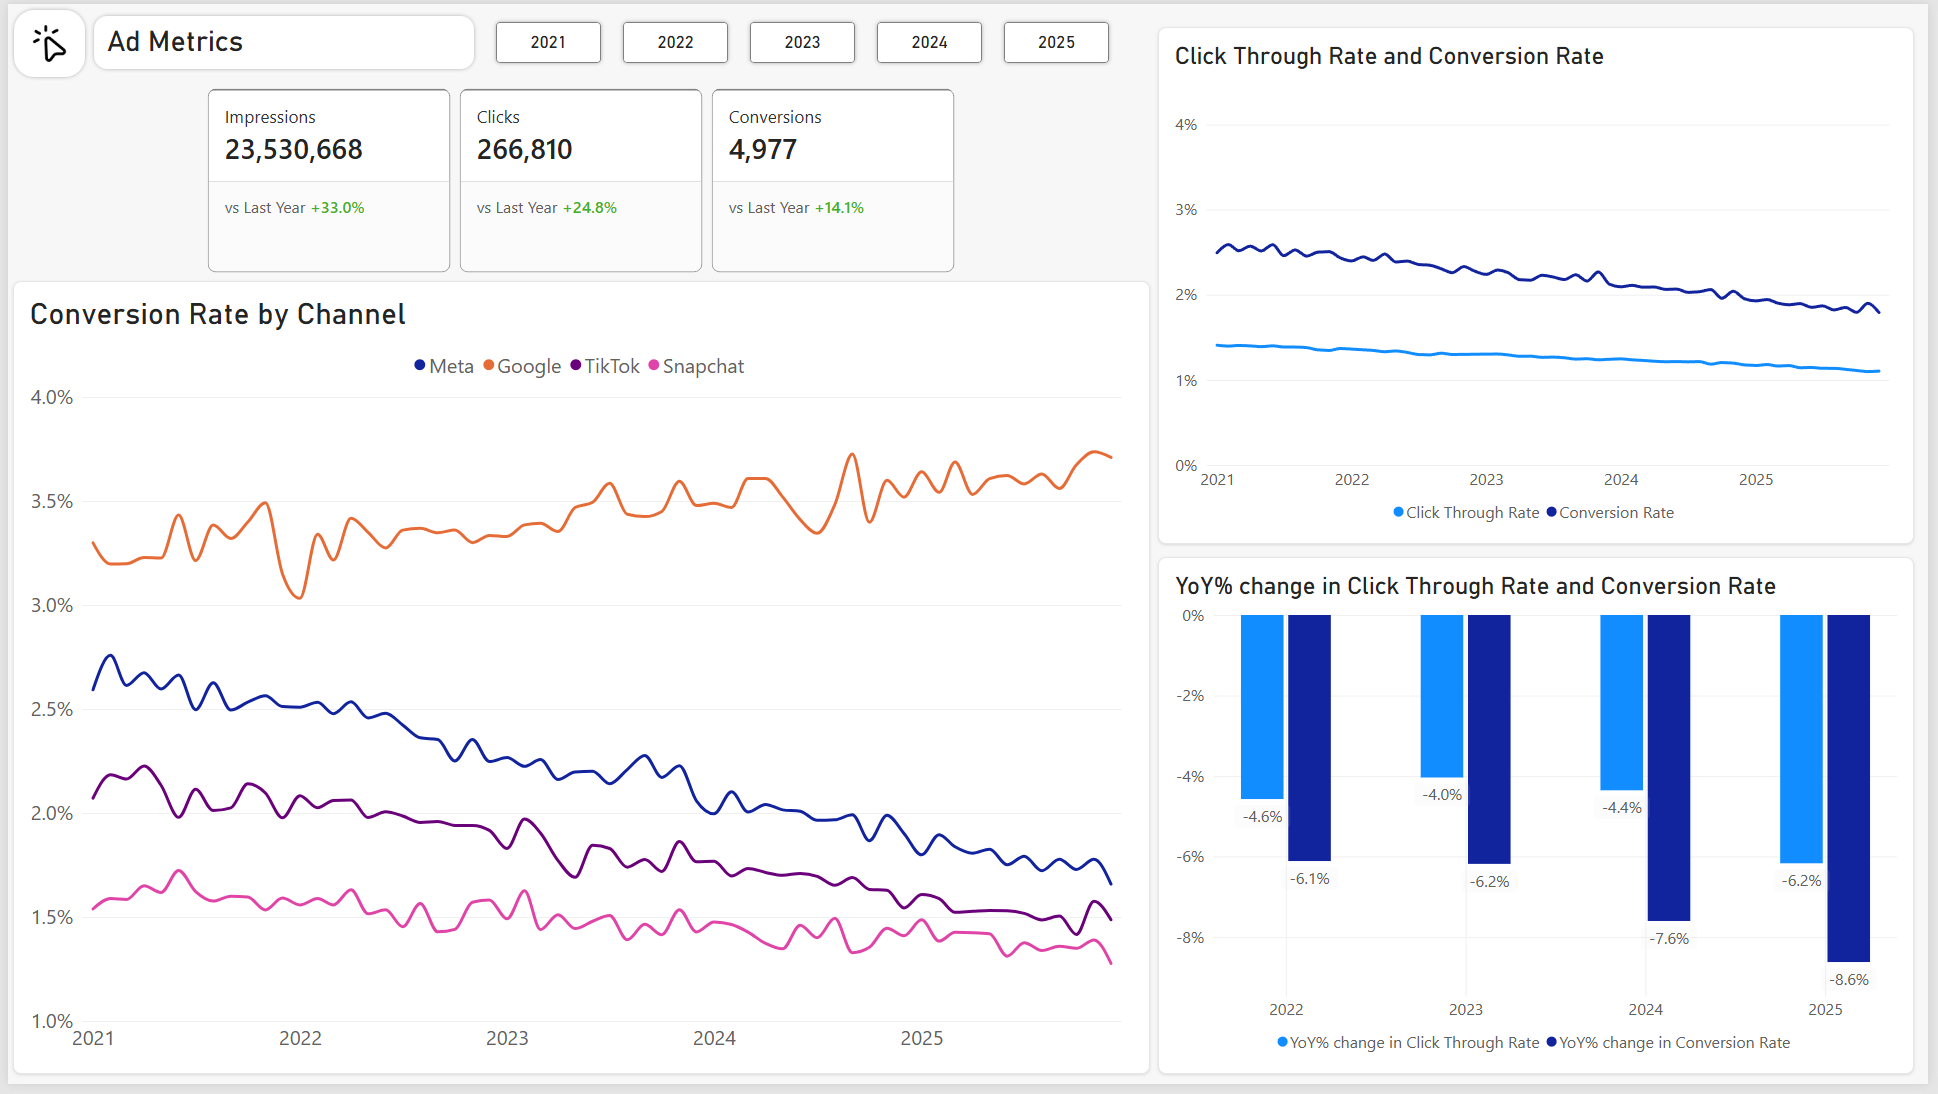

Layout of this report page (visuals, bound fields, positions):
{"tool":"powerbi","page":{"name":"Ad Metrics","canvas":[1920,1080],"ordinal":6},"visuals":[{"type":"shape","box":[2,2,79.2,74.6],"z":0},{"type":"shape","box":[82,7.9,388.3,61.3],"z":1000},{"type":"lineChart","title":"Click Through Rate and Conversion Rate","fields":{"Y":["dtc fact_ad_spend.Sum of clicks divided by Sum of impressions","dtc fact_ad_spend.Sum of conversions divided by Sum of clicks"],"Category":["dtc dim_date.date.Variation.Date Hierarchy.Year","dtc dim_date.date.Variation.Date Hierarchy.Quarter","dtc dim_date.date.Variation.Date Hierarchy.Month","dtc dim_date.date.Variation.Date Hierarchy.Day"]},"box":[1150,23,756,517],"z":2000},{"type":"clusteredColumnChart","title":"YoY% change in Click Through Rate and Conversion Rate ","fields":{"Category":["dtc dim_date.date.Variation.Date Hierarchy.Year","dtc dim_date.date.Variation.Date Hierarchy.Quarter","dtc dim_date.date.Variation.Date Hierarchy.Month","dtc dim_date.date.Variation.Date Hierarchy.Day"],"Y":["dtc fact_ad_spend.YoY% change in Click Through Rate","dtc fact_ad_spend.YoY% change in Conversion Rate"]},"box":[1150,553,756,517],"z":3000},{"type":"lineChart","title":"Conversion Rate by Channel","fields":{"Y":["dtc fact_ad_spend.Sum of conversions divided by Sum of clicks"],"Category":["dtc dim_date.date.Variation.Date Hierarchy.Year","dtc dim_date.date.Variation.Date Hierarchy.Quarter","dtc dim_date.date.Variation.Date Hierarchy.Month","dtc dim_date.date.Variation.Date Hierarchy.Day"],"Series":["dtc dim_channel.channel_name"]},"box":[5,277,1137,793],"z":4000},{"type":"textbox","box":[99,20,350,39.6],"z":5000},{"type":"image","box":[14.8,16.8,53.4,45.5],"z":6000},{"type":"cardVisual","fields":{"Data":["dtc fact_ad_spend.Impressions (Latest Yr)","dtc fact_ad_spend.Clicks (Latest Yr)","dtc fact_ad_spend.Conversions (Latest Yr)"]},"box":[198.7,83.7,749.1,185.7],"z":7000},{"type":"advancedSlicerVisual","fields":{"Values":["dtc dim_date.date.Variation.Date Hierarchy.Year"]},"box":[481,11.4,629,55],"z":8000}]}

Visuals, with their boxes in screenshot pixels (x1, y1, x2, y2), scaled from the page's 1920x1080 canvas onto the 1938x1094 screenshot:
shape: 2 2 82 78
shape: 83 8 475 70
"Click Through Rate and Conversion Rate" lineChart: 1161 23 1924 547
"YoY% change in Click Through Rate and Conversion Rate " clusteredColumnChart: 1161 560 1924 1084
"Conversion Rate by Channel" lineChart: 5 281 1153 1084
textbox: 100 20 453 60
image: 15 17 69 63
cardVisual - dtc fact_ad_spend.Impressions (Latest Yr) x dtc fact_ad_spend.Clicks (Latest Yr): 201 85 957 273
advancedSlicerVisual - dtc dim_date.date.Variation.Date Hierarchy.Year: 486 12 1120 67
